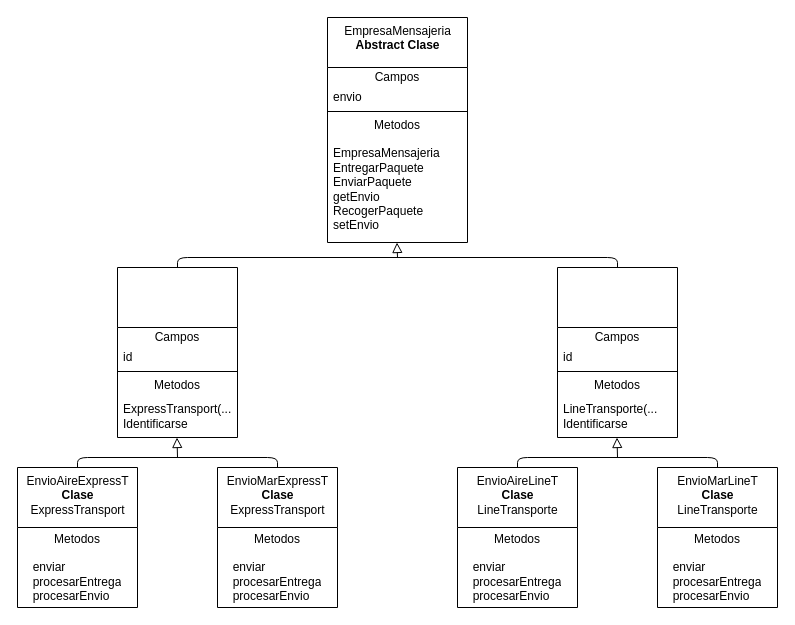
The diagram is 795 pixels wide and 625 high, and some of its shapes have lost their labels. Here are the shapes that lost their labels. From the top down, the box of each, then its label:
(116, 266, 238, 438): ExpressTransport Clase EmpresaMensajeria
(556, 266, 678, 438): LineTransporte Clase EmpresaMensajeria
